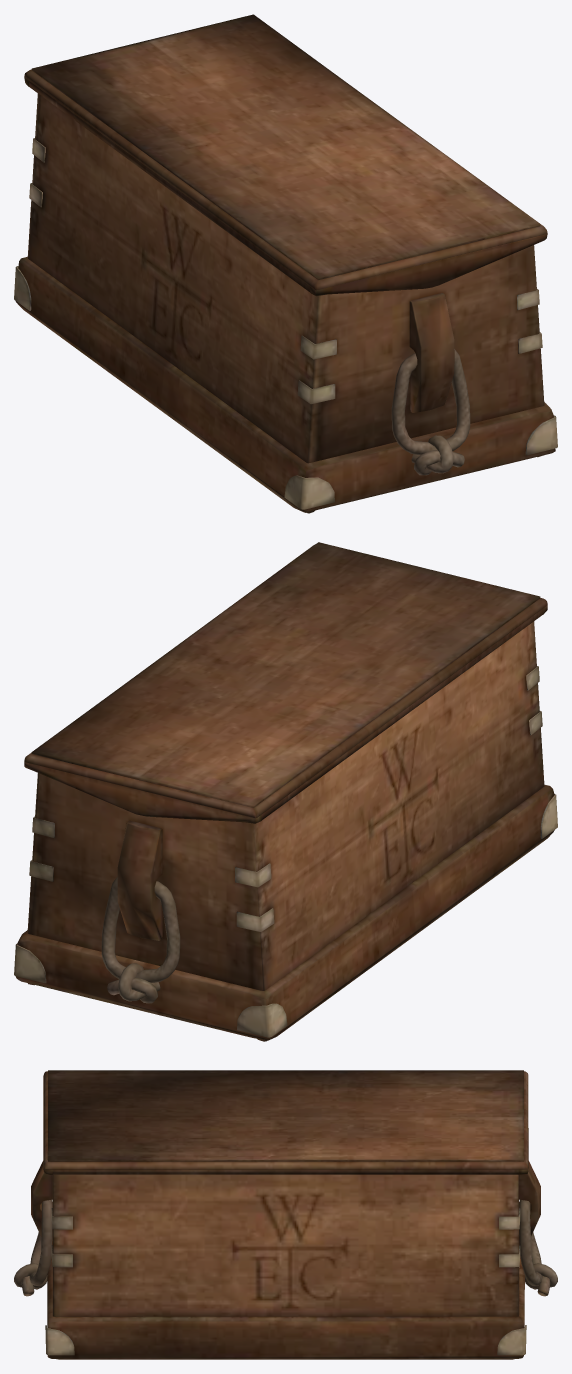
Rendered from wooden_crate_02.glb.
The picture shows the model from 3 angles, top to bottom: view 1: azimuth 30°, elevation 25°; view 2: azimuth 150°, elevation 25°; view 3: azimuth 270°, elevation 25°; orthographic projection. The views are drawn at different scales.
Parts seen in each view (by area): view 1: wooden_crate_02_crate; view 2: wooden_crate_02_crate; view 3: wooden_crate_02_crate.
Part boxes in pixels (left/top/right/bottom): wooden_crate_02_crate: left=14, top=14, right=557, bottom=513; wooden_crate_02_crate: left=14, top=542, right=557, bottom=1041; wooden_crate_02_crate: left=14, top=1070, right=557, bottom=1359.
Bounding box in the file's own units: 0.5291 × 0.4639 × 1.17.
1 material, 1 textured.
